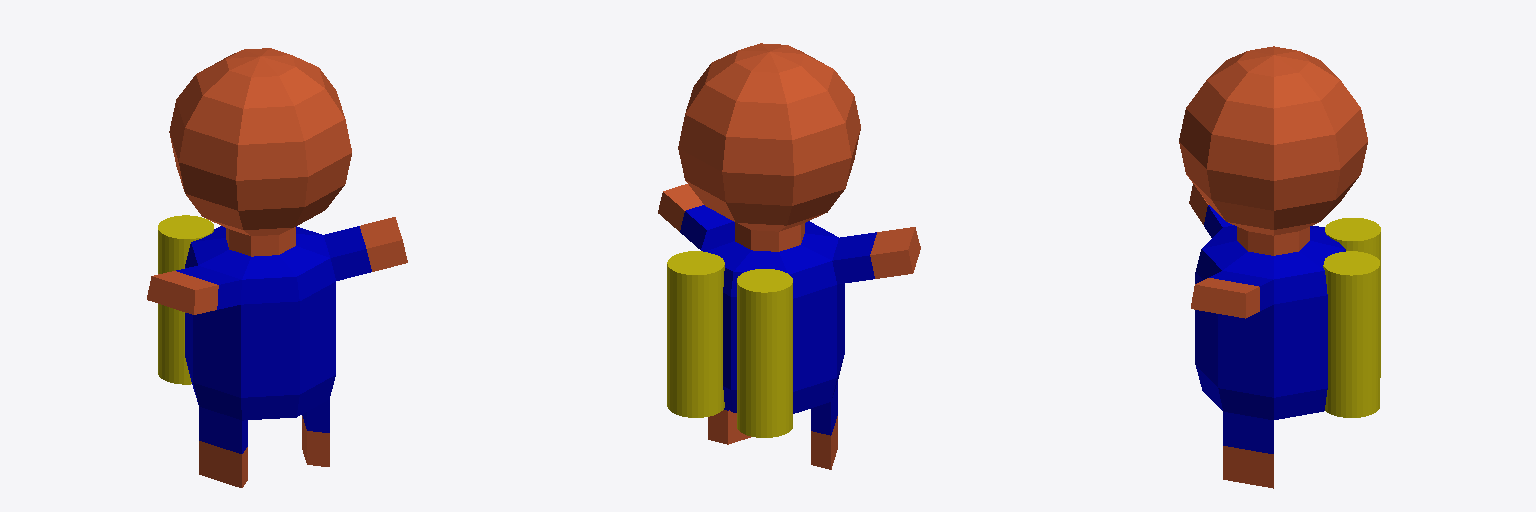
The model's file is arpenteur.obj.
3 renders of one model, left to right at view 1: azimuth 30°, elevation 25°; view 2: azimuth 150°, elevation 25°; view 3: azimuth 270°, elevation 25°, orthographic.
Visible parts, largest first — view 1: Sphere_Sphere.001; view 2: Sphere_Sphere.001; view 3: Sphere_Sphere.001.
Boxes of the visible parts, box(x1,y1,x2,y2) form: Sphere_Sphere.001: box(147, 48, 407, 487); Sphere_Sphere.001: box(658, 43, 920, 469); Sphere_Sphere.001: box(1179, 46, 1380, 488).
Size of the model in its own units: 3.1 by 4.69 by 2.14.